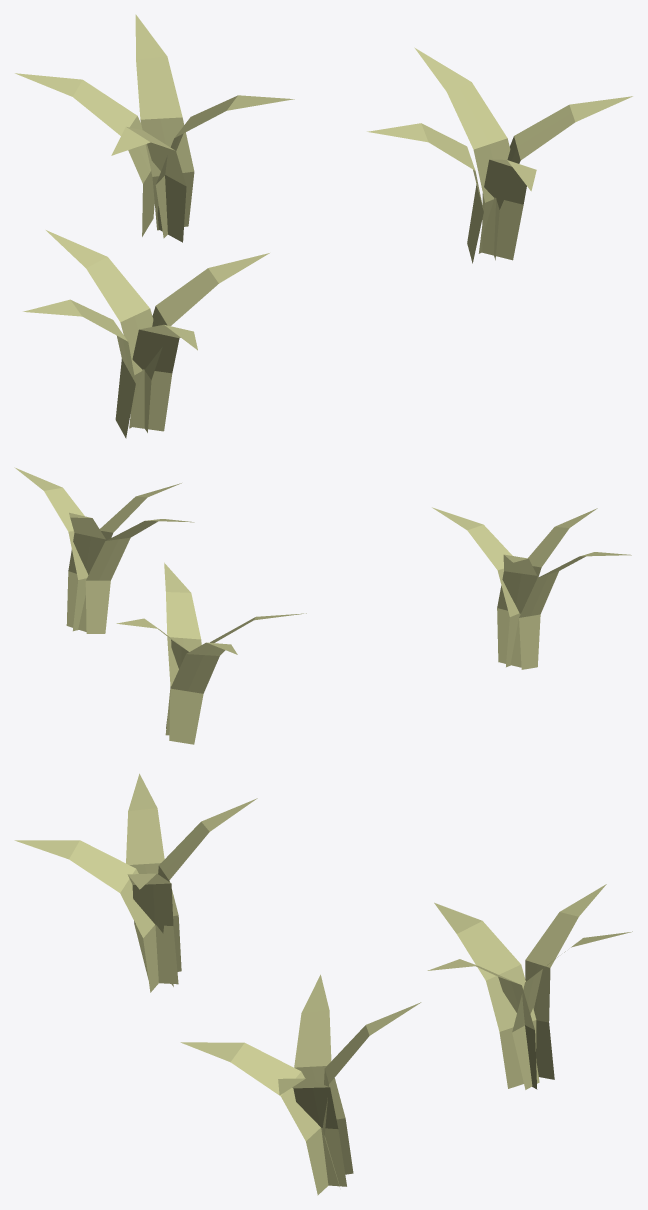
Rendered from ER_Asset_plants02.fbx.
3 views of the same model, one above another, from view 1: azimuth 30°, elevation 25°; view 2: azimuth 150°, elevation 25°; view 3: azimuth 270°, elevation 25° (orthographic). The views are drawn at different scales.
Parts seen in each view (by area): view 1: polySurface6577; view 2: polySurface6577; view 3: polySurface6577.
Part boxes in pixels (box(x1,y1,x2,y2)): polySurface6577: box(15, 14, 632, 438); polySurface6577: box(14, 467, 631, 744); polySurface6577: box(14, 773, 632, 1195).
Size of the model in its own units: 3.42 by 0.8727 by 2.82.
